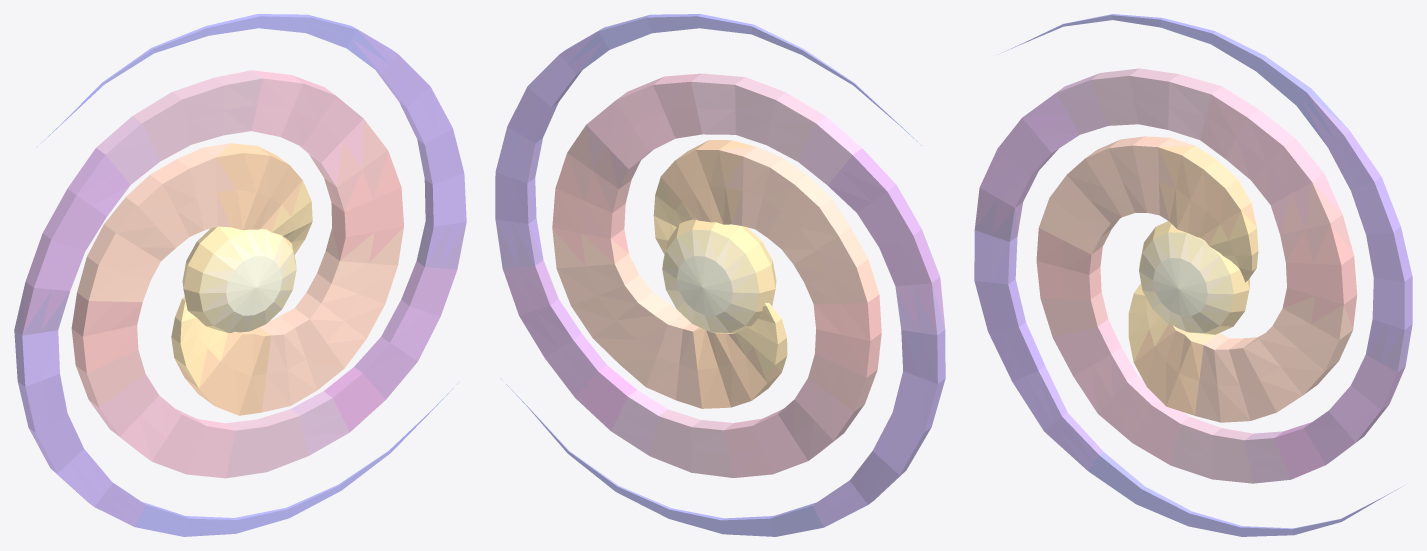
The model's file is galaxy-000.glb.
3 renders of one model, left to right at view 1: azimuth 30°, elevation 25°; view 2: azimuth 150°, elevation 25°; view 3: azimuth 330°, elevation 25°, orthographic. The views are drawn at different scales.
Visible parts, largest first — view 1: galaxy-000; view 2: galaxy-000; view 3: galaxy-000.
Boxes of the visible parts, <box> form: galaxy-000: <box>14,14,466,536</box>; galaxy-000: <box>495,14,945,536</box>; galaxy-000: <box>974,14,1412,536</box>.
Bounding box in the file's own units: 137 × 151 × 17.77.
